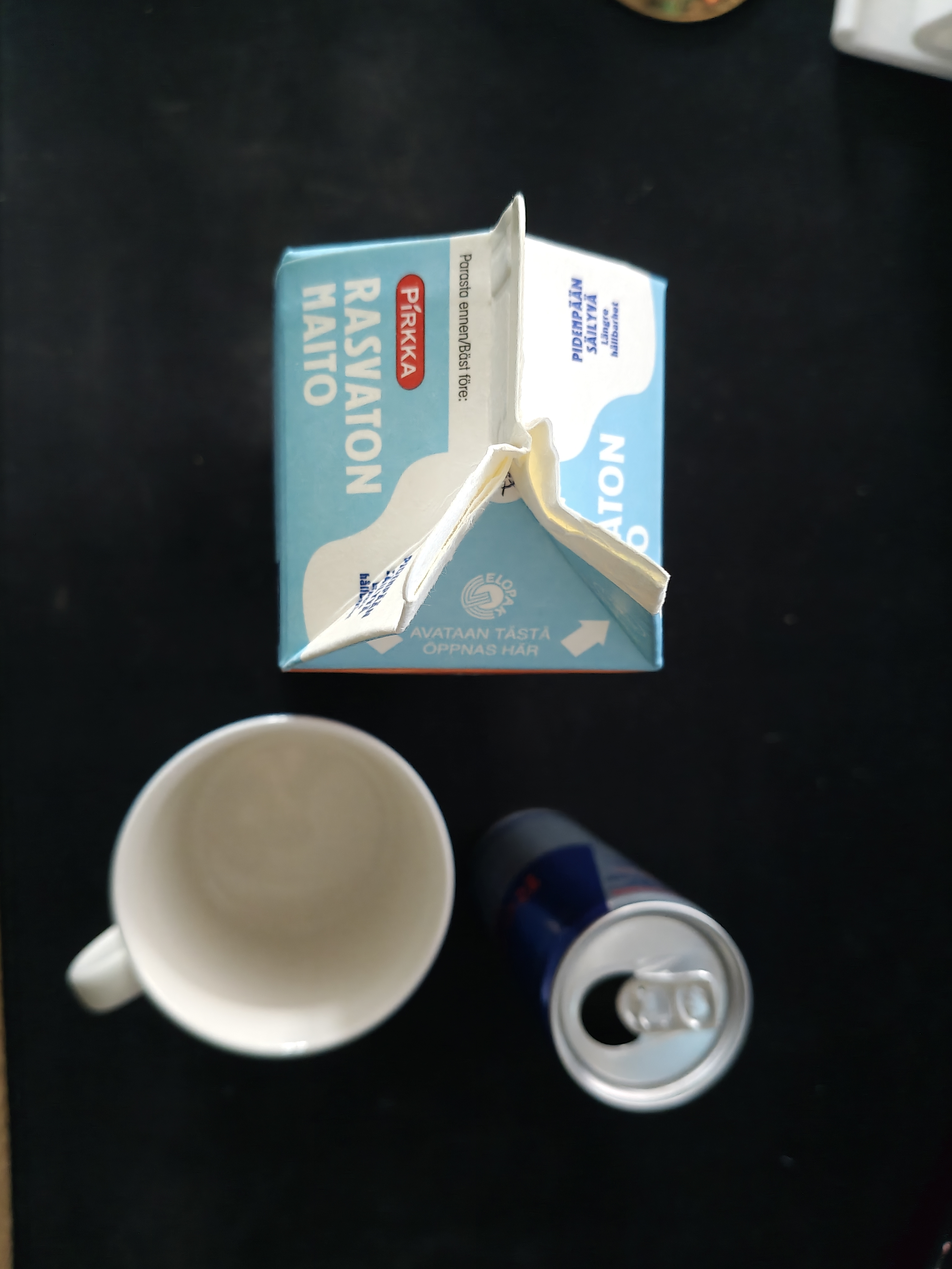Dryckeskartong: (274, 192, 667, 673)
Pantburk: (463, 802, 753, 1113)
